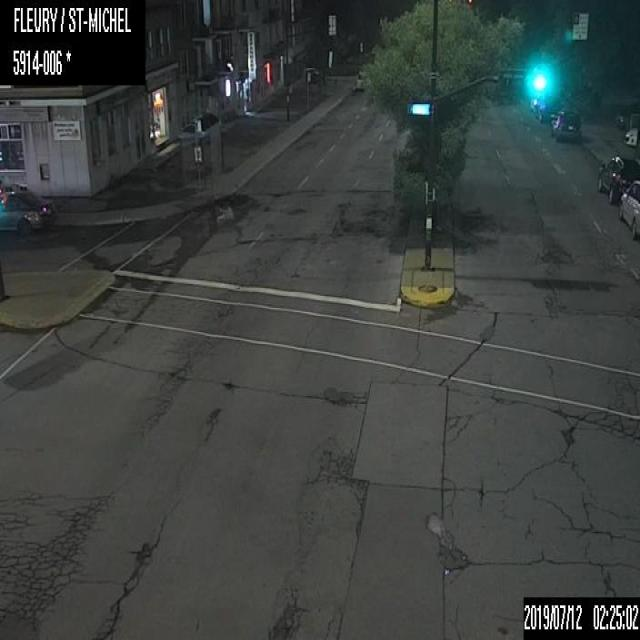vehicle: (0, 187, 55, 236), (595, 148, 639, 206), (619, 178, 639, 238), (549, 111, 581, 140), (623, 126, 639, 147)
